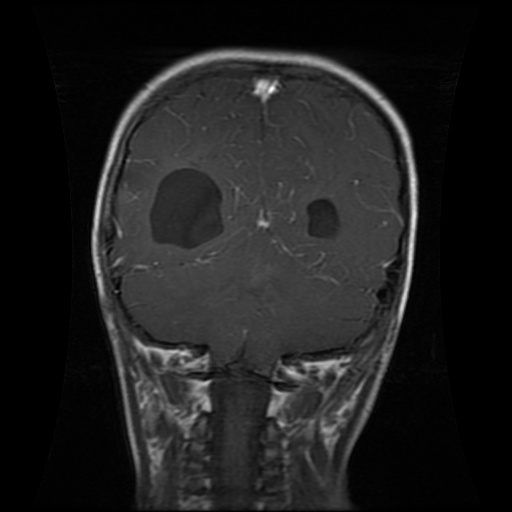glioma: (141, 161, 227, 248)
